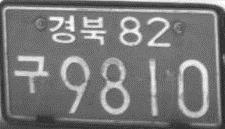0: (176, 57, 210, 119)
1: (146, 56, 160, 119)
2: (145, 15, 171, 48)
8: (99, 56, 130, 115), (117, 14, 142, 47)
9: (59, 54, 90, 114)
경북_O: (46, 13, 108, 47)
구: (14, 53, 48, 95)
